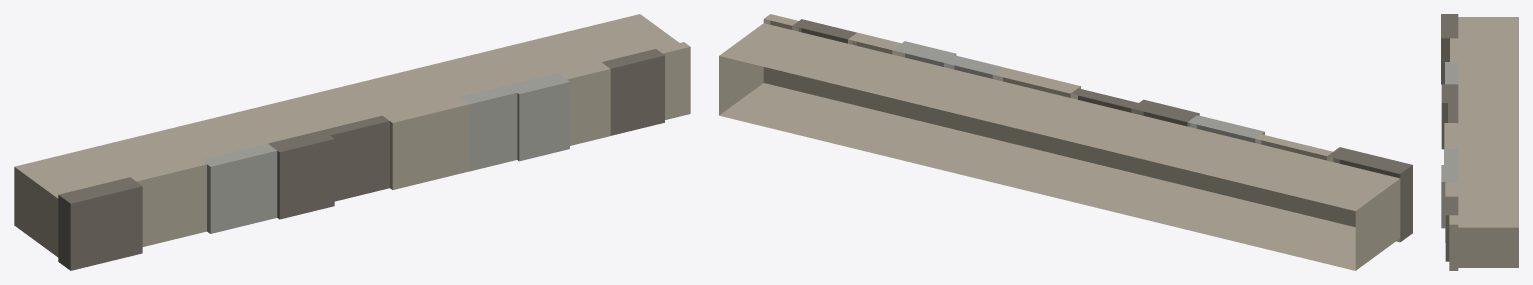
3 views of the same model, side by side, from view 1: azimuth 30°, elevation 25°; view 2: azimuth 150°, elevation 25°; view 3: azimuth 270°, elevation 25° (orthographic). The views are drawn at different scales.
Visible parts, largest first — view 1: fence_6; view 2: fence_6; view 3: fence_6.
Part boxes in pixels (box(x1,y1,x2,y2)): fence_6: box(14, 14, 690, 270); fence_6: box(719, 14, 1412, 270); fence_6: box(1441, 14, 1518, 270).
Bounding box in the file's own units: 15.6 × 1.6 × 2.44.
